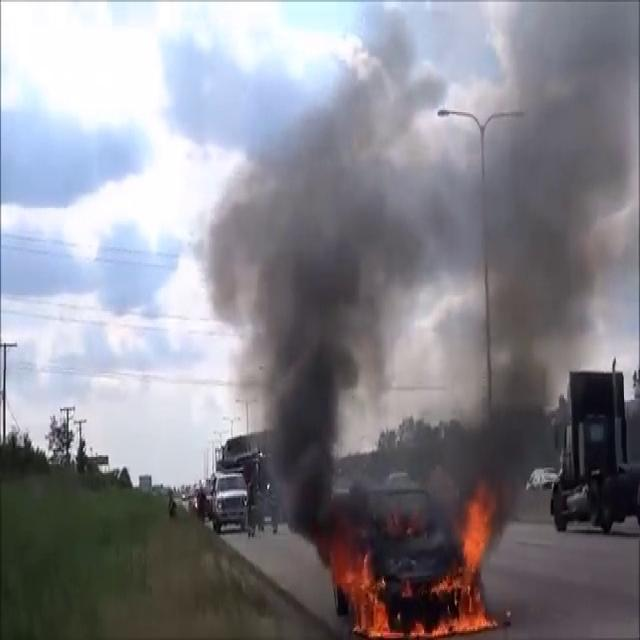Fire: (333, 496, 498, 638)
Smoke: (204, 4, 636, 514)
